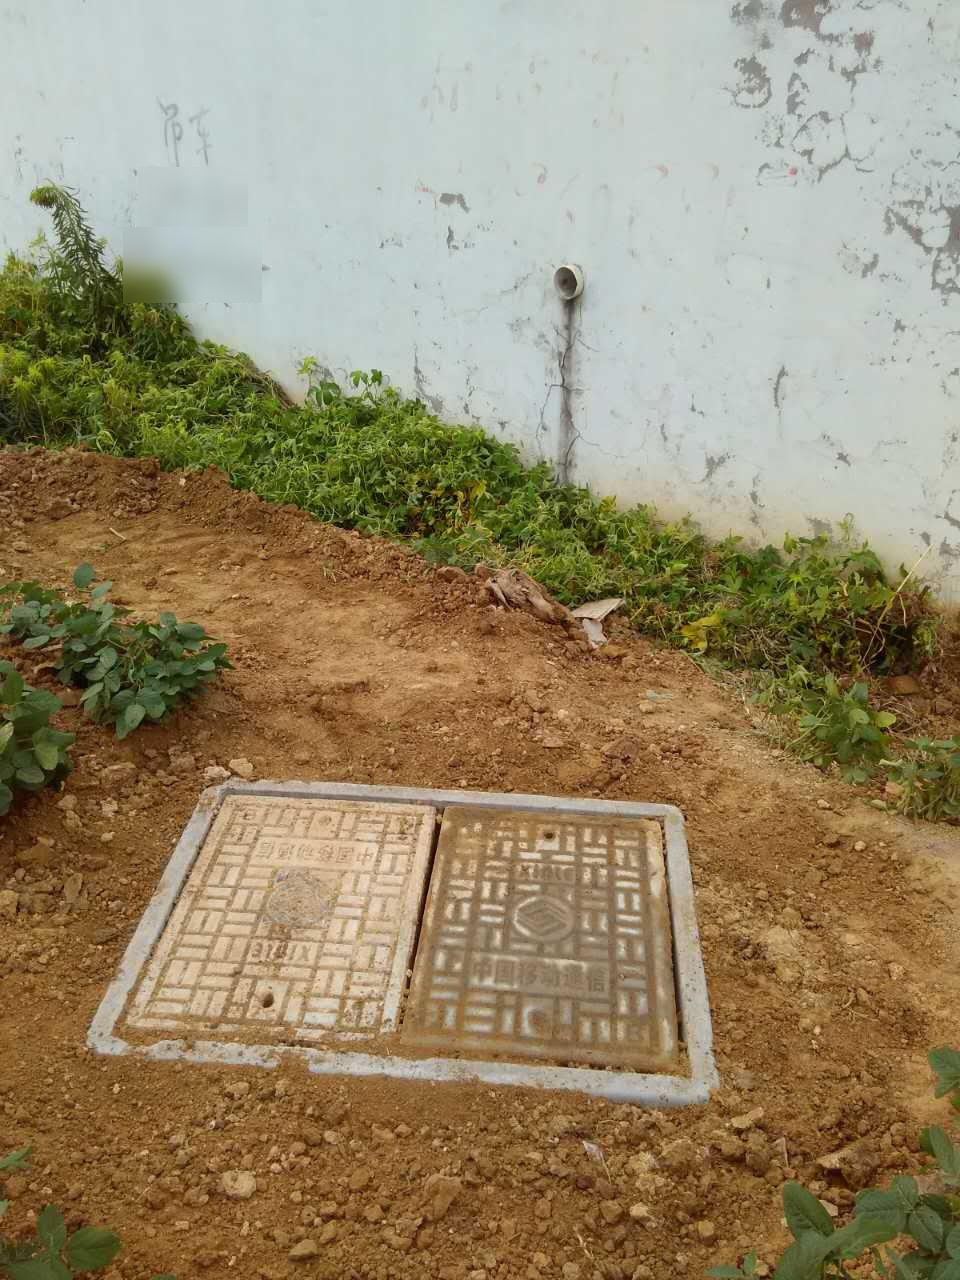good: (86, 774, 722, 1103)
